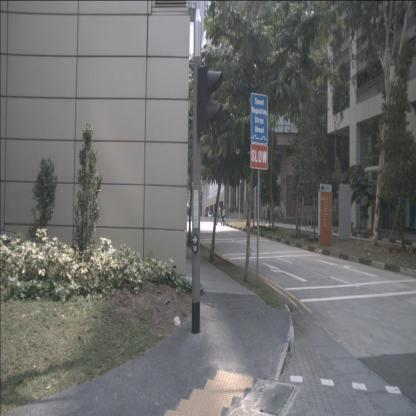human-pedestrian-adult: (216, 204, 222, 226), (222, 206, 226, 226), (266, 206, 270, 223)
